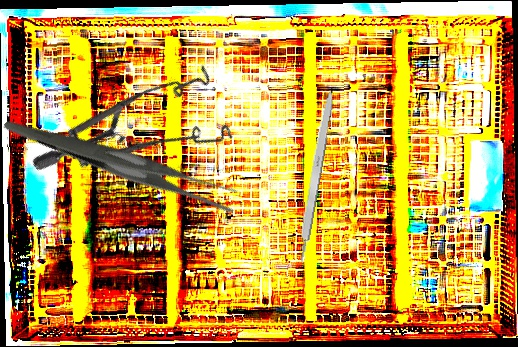Dressing Forceps: (2, 54, 245, 269)
Scalpel Handle: (293, 86, 337, 264)
Speculum: (29, 24, 256, 253)
